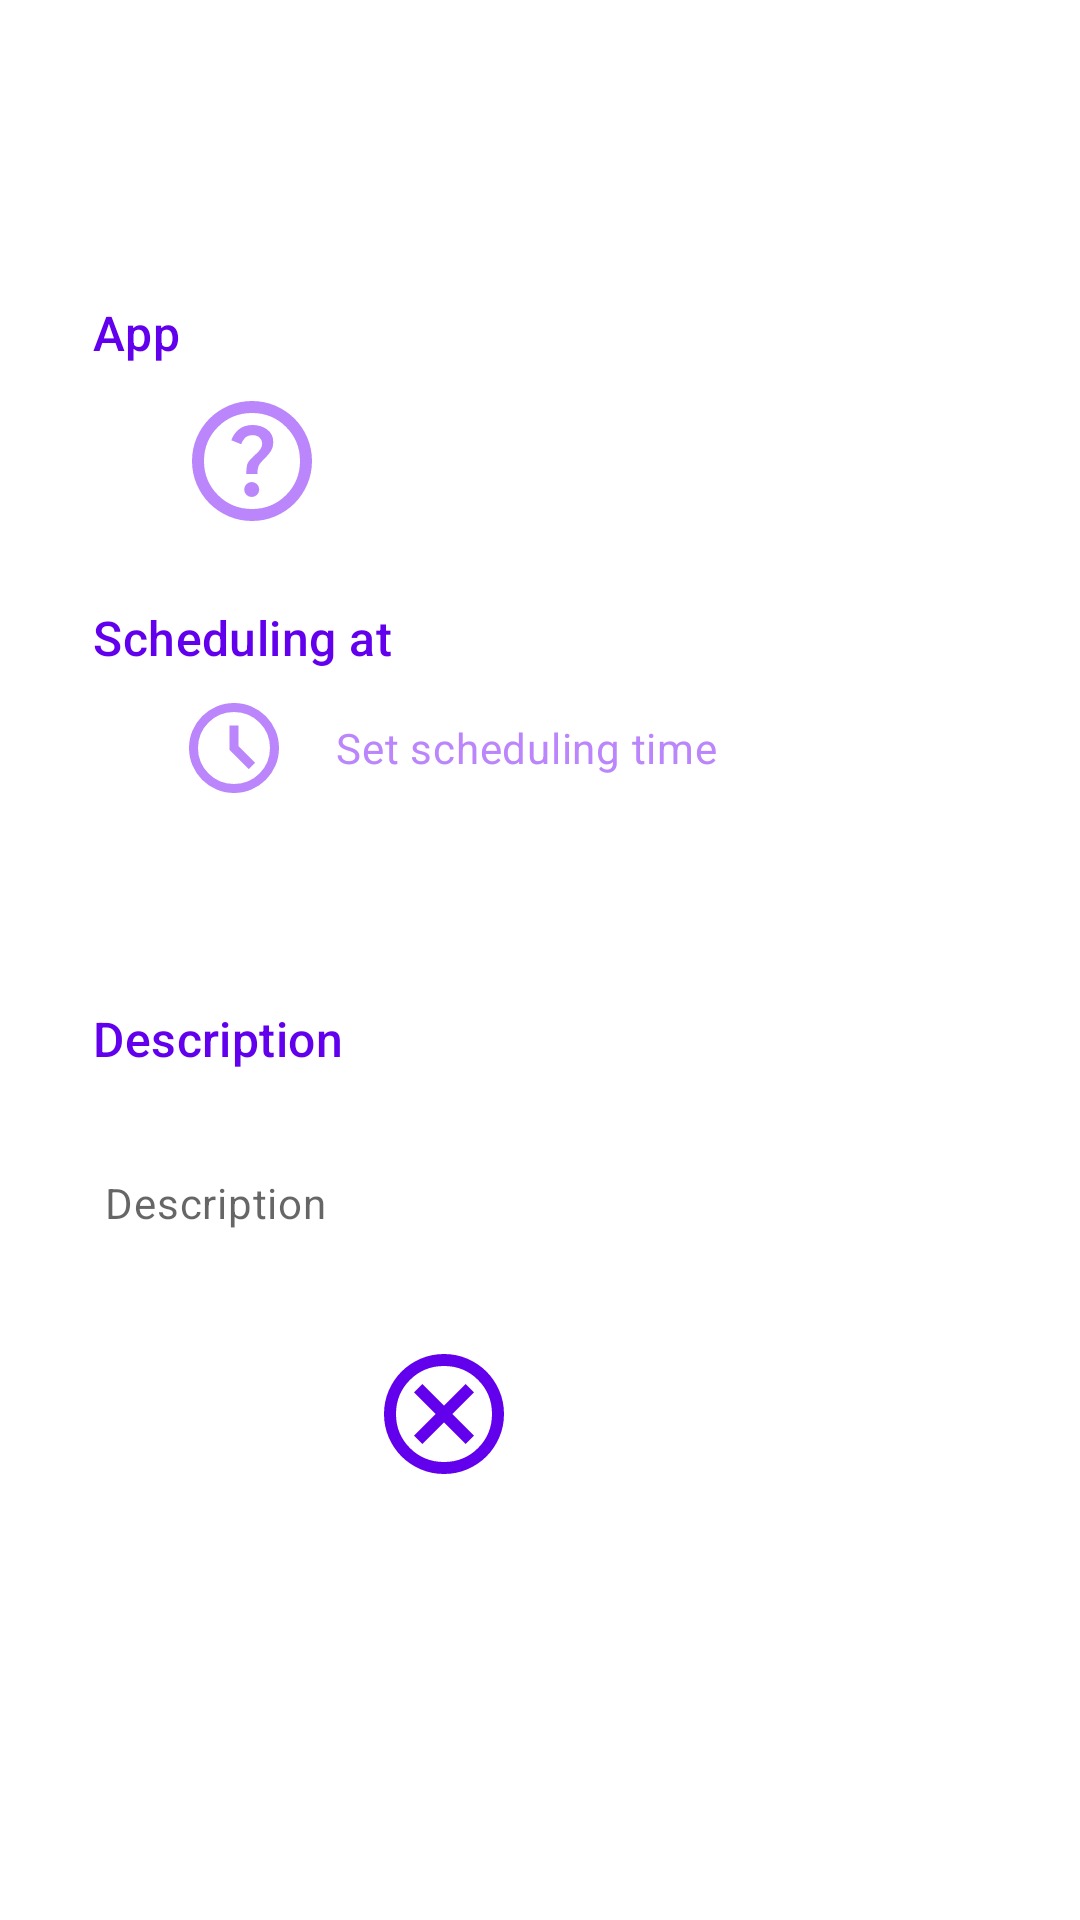

Screen size 1080w x 1920h. Icon name, then its box in pixels as [x1, y1, x2, y2]:
cancel: [384, 1354, 504, 1474]
help: [192, 401, 312, 521]
schedule: [189, 703, 279, 793]
